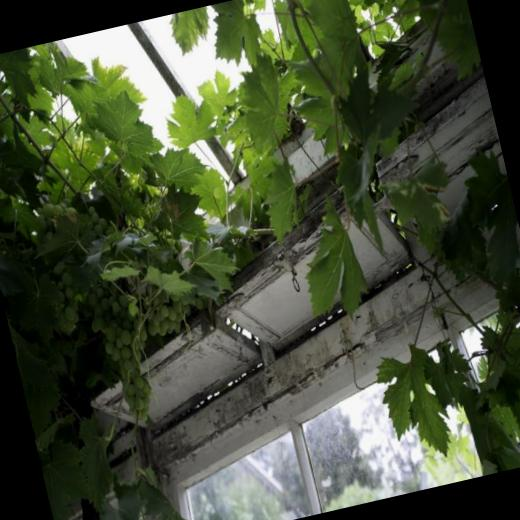Orange: (80, 258, 227, 433), (36, 258, 86, 338), (29, 197, 78, 243), (96, 217, 108, 232), (94, 221, 102, 236), (91, 212, 98, 222), (88, 207, 96, 214)
